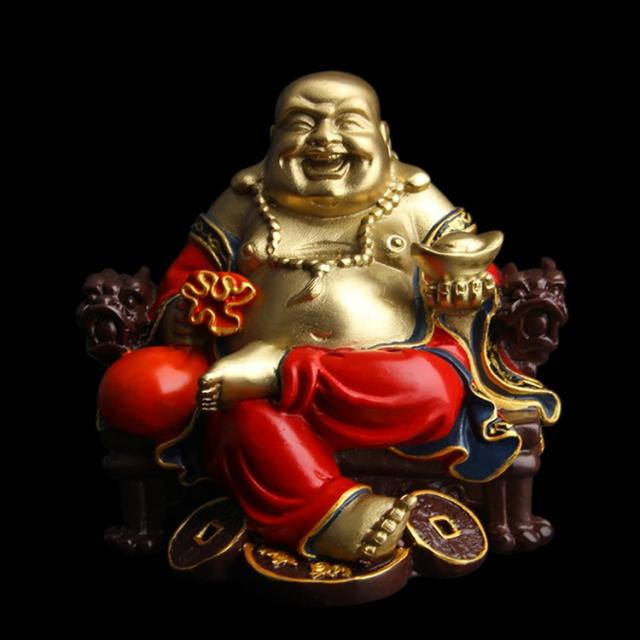Smiling Buddha: (191, 65, 466, 449)
